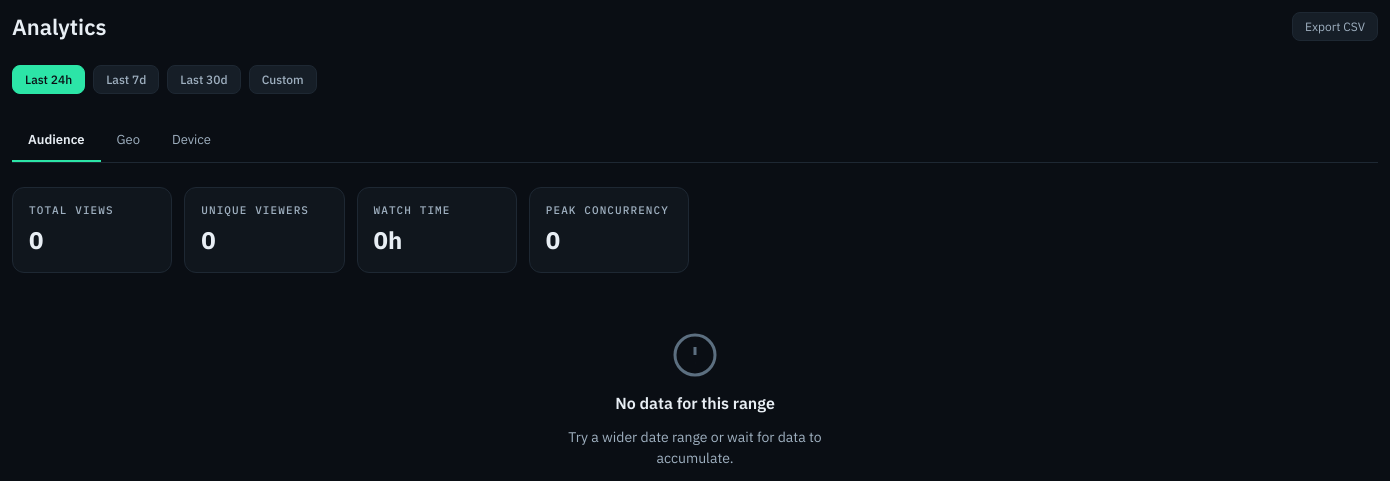
Test: AnalyticsPage rendering › (e) device tab — shows no device data empty state
The image size is (1390, 481).
What coordinates should you click on to do the following:
click the tab "Device"
I would click on:
 (192, 140)
Its box is [156,118,227,162].
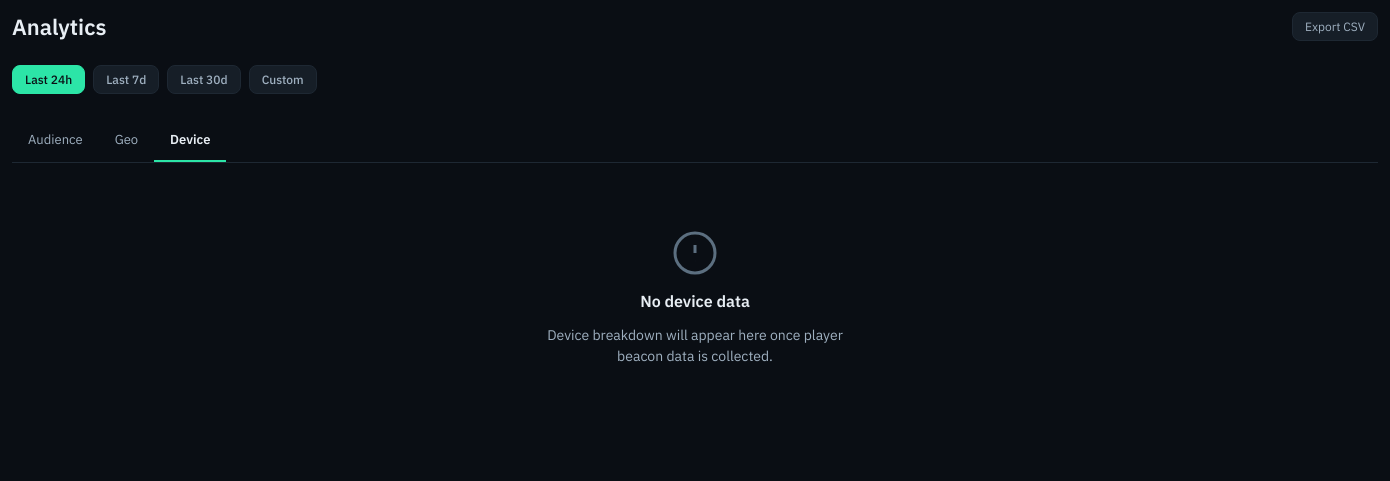
Expected: the heading "No device data" is shown, [640,289,750,313]
